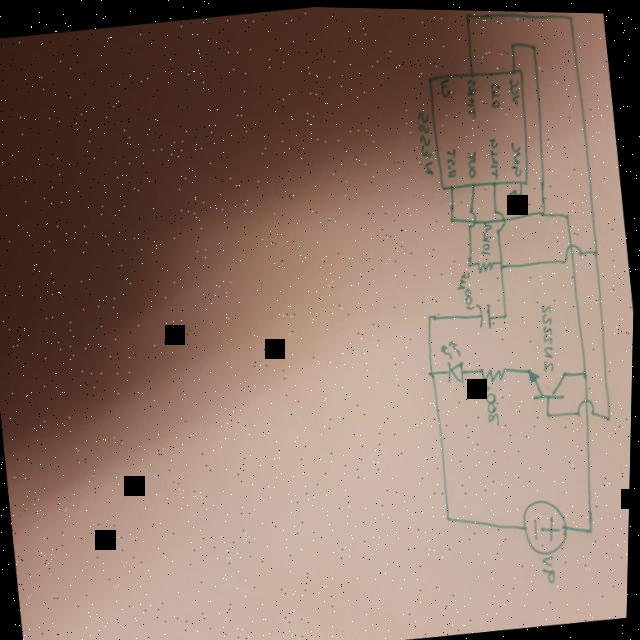capacitor: (474, 296, 497, 329)
crossover: (561, 237, 586, 263), (492, 204, 509, 233), (577, 393, 597, 415), (465, 203, 480, 226)
diode: (438, 332, 471, 385)
ground: (508, 184, 520, 200)
junction: (498, 254, 506, 269), (582, 363, 591, 376), (428, 364, 437, 377), (426, 309, 435, 320), (538, 204, 547, 215), (530, 38, 539, 49), (463, 8, 472, 19), (588, 519, 596, 531), (447, 509, 454, 522), (466, 256, 475, 266), (546, 405, 554, 416), (592, 243, 600, 254), (508, 38, 517, 47), (565, 10, 574, 19), (564, 207, 571, 218), (606, 409, 614, 418), (448, 212, 456, 221), (503, 307, 510, 317), (519, 188, 524, 194)
resistor: (476, 357, 511, 383), (475, 253, 498, 272)
source: (519, 493, 574, 557)
text: (537, 298, 560, 370), (414, 106, 437, 174), (480, 375, 503, 425), (455, 268, 476, 311), (463, 74, 481, 117), (486, 133, 503, 177), (508, 137, 525, 175), (541, 550, 560, 582), (444, 145, 460, 176), (507, 74, 522, 103), (466, 148, 480, 177), (488, 79, 503, 106), (479, 226, 493, 254), (439, 74, 452, 95)
transistor: (526, 357, 571, 402)
